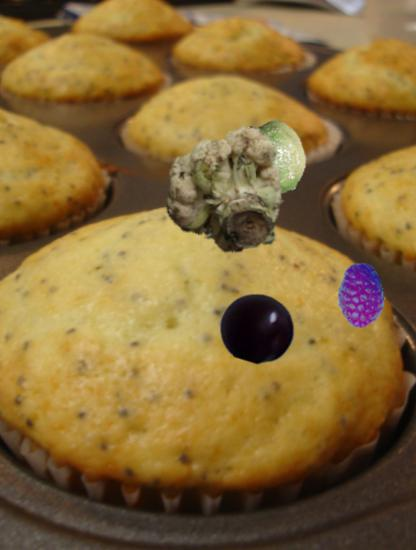Cauliflower: (162, 128, 290, 256)
Cherry: (220, 291, 295, 366)
Limes: (231, 121, 309, 199)
Raspberry: (327, 263, 393, 329)
